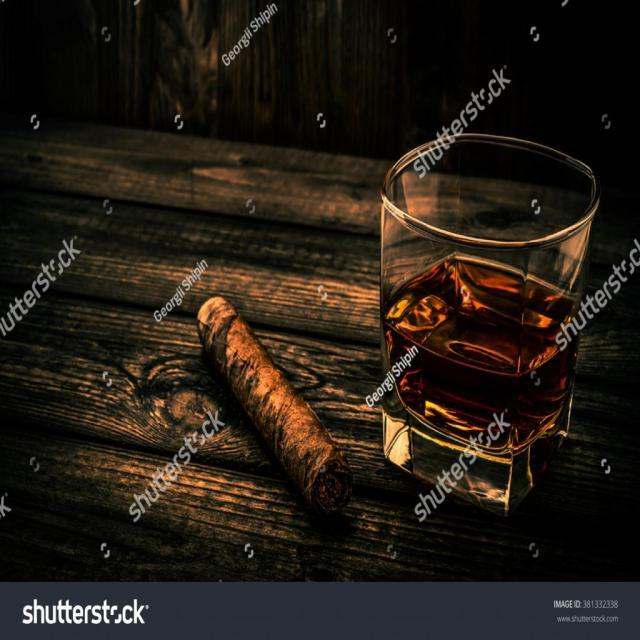smoking: (182, 286, 369, 524)
